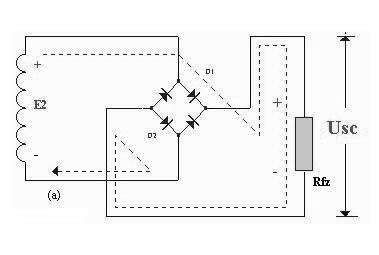bridge: (147, 76, 210, 141)
inductance: (13, 50, 30, 169)
res1: (294, 114, 315, 176)
